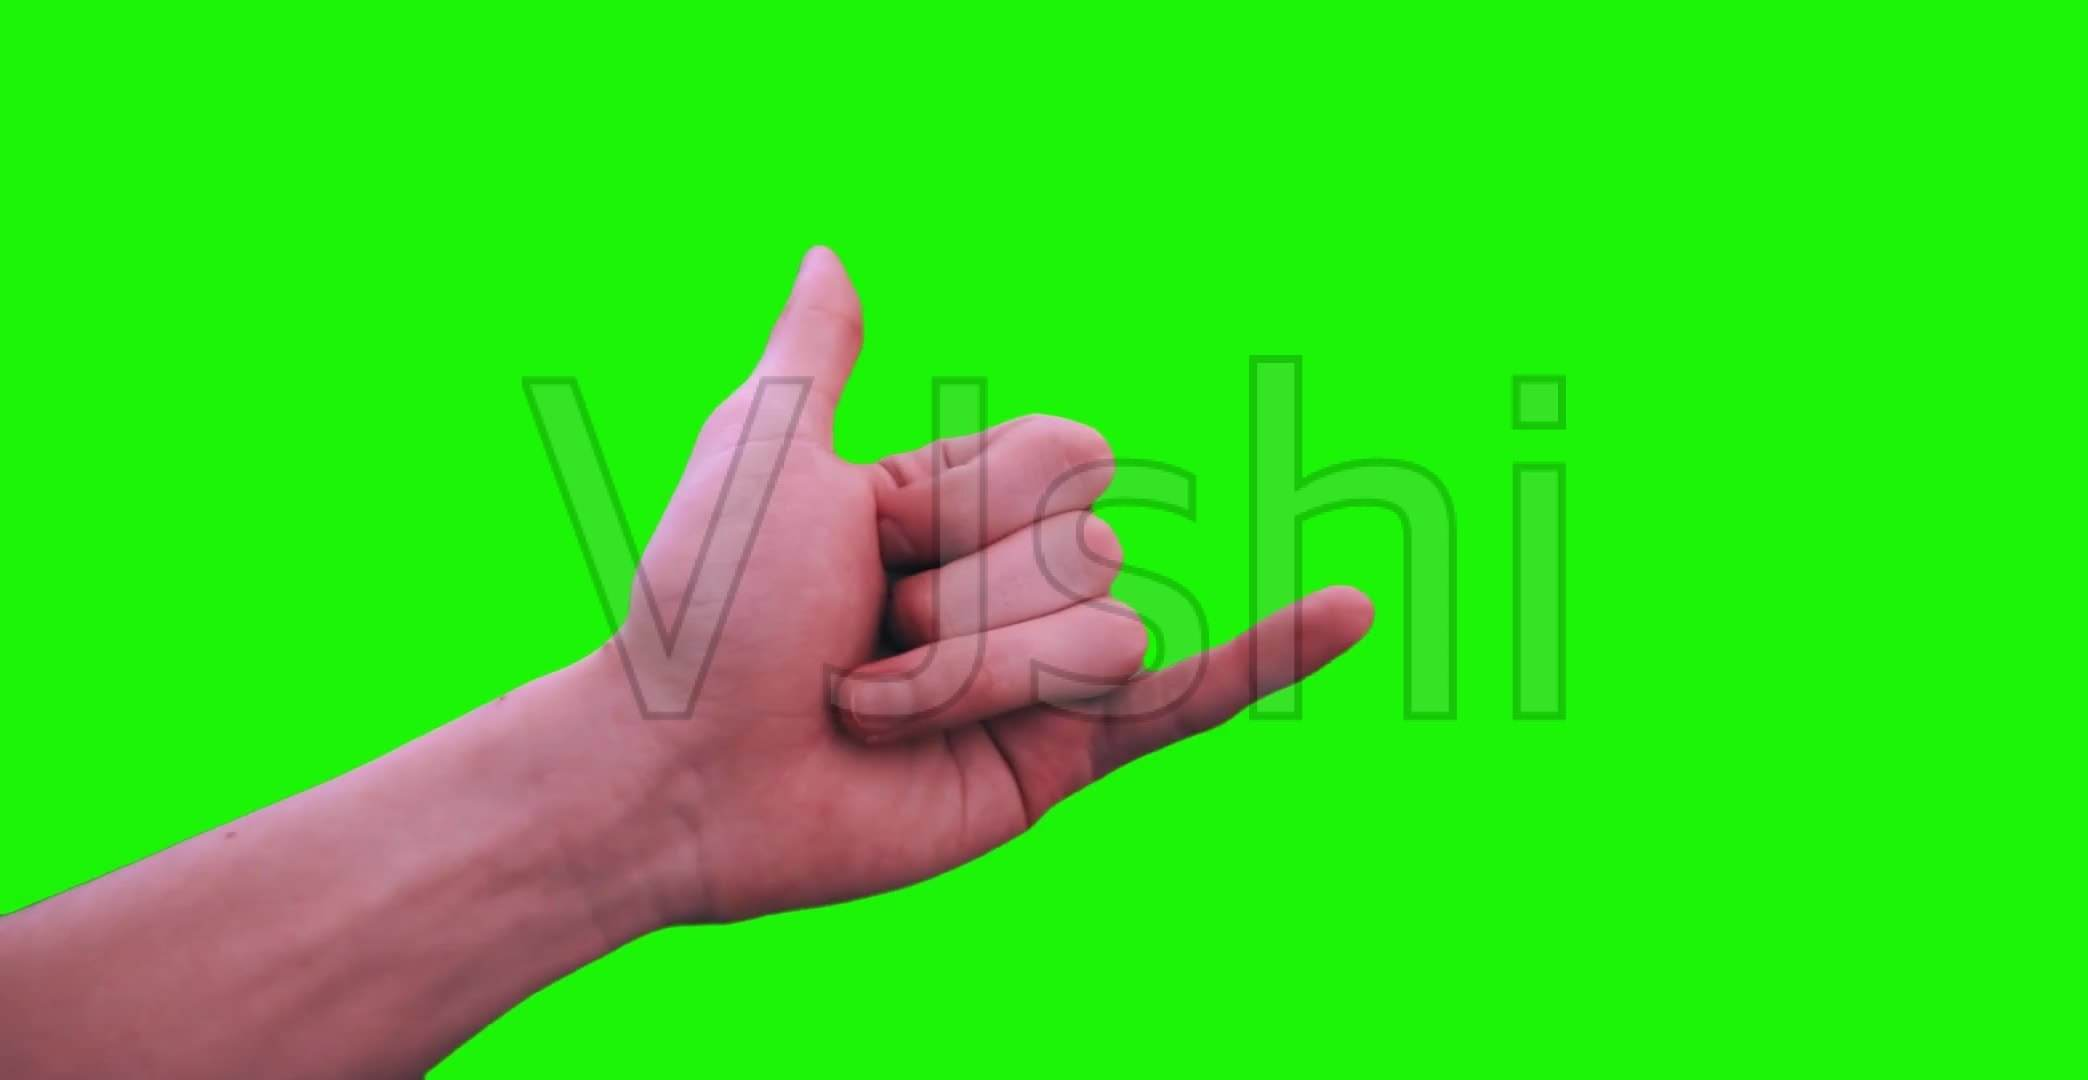clockwise: (595, 241, 1406, 882)
